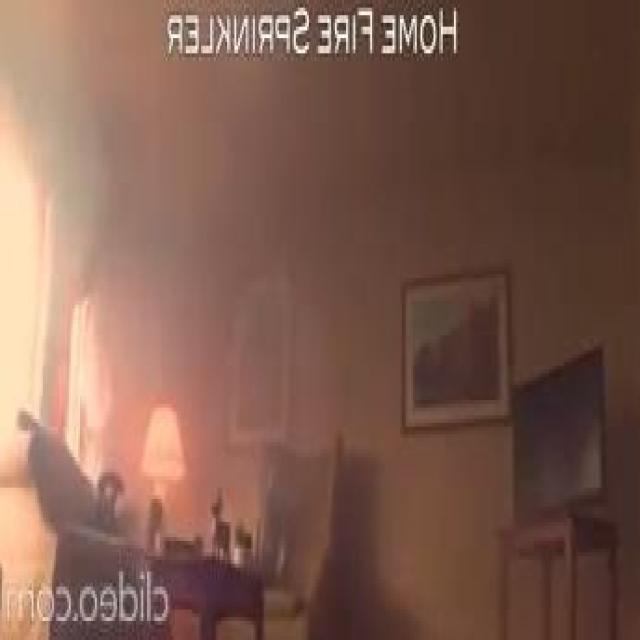smoke: (67, 297, 106, 484)
